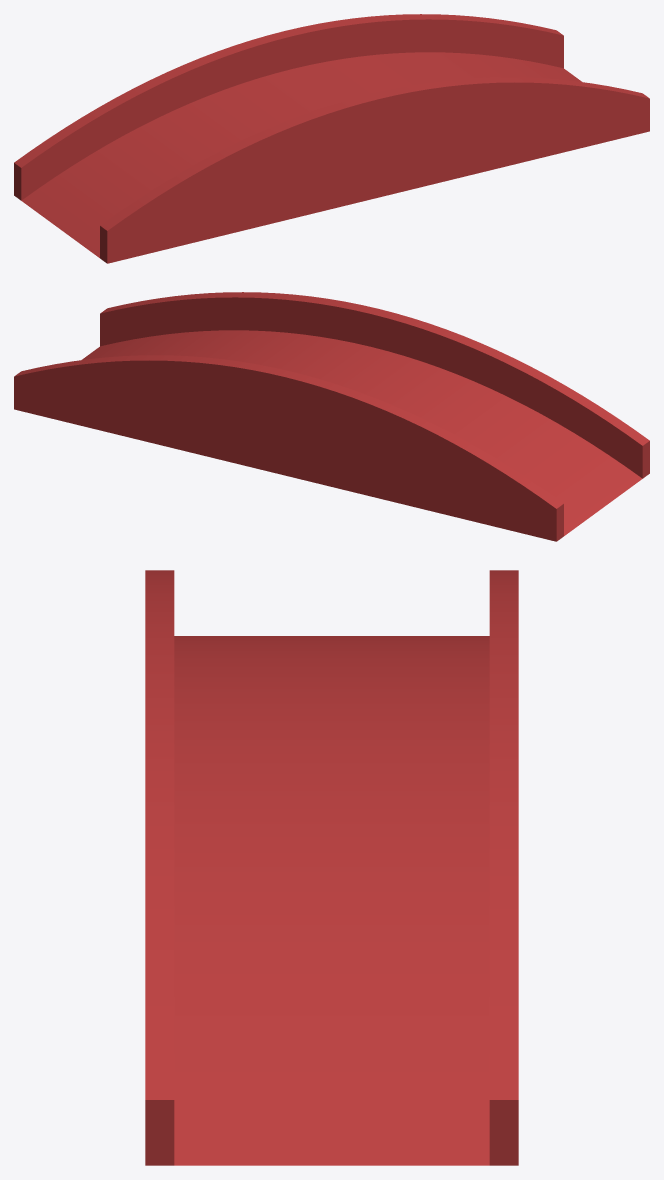
The model's file is Bridge.fbx.
3 views of the same model, one above another, from view 1: azimuth 30°, elevation 25°; view 2: azimuth 150°, elevation 25°; view 3: azimuth 270°, elevation 25° (orthographic). The views are drawn at different scales.
Parts seen in each view (by area): view 1: 개체_1; view 2: 개체_1; view 3: 개체_1.
Boxes of the visible parts, box(x1,y1,x2,y2) form: 개체_1: box(14, 14, 649, 263); 개체_1: box(14, 292, 649, 541); 개체_1: box(145, 570, 518, 1165).
Bounding box in the file's own units: 8.65 × 2.58 × 1.5.
